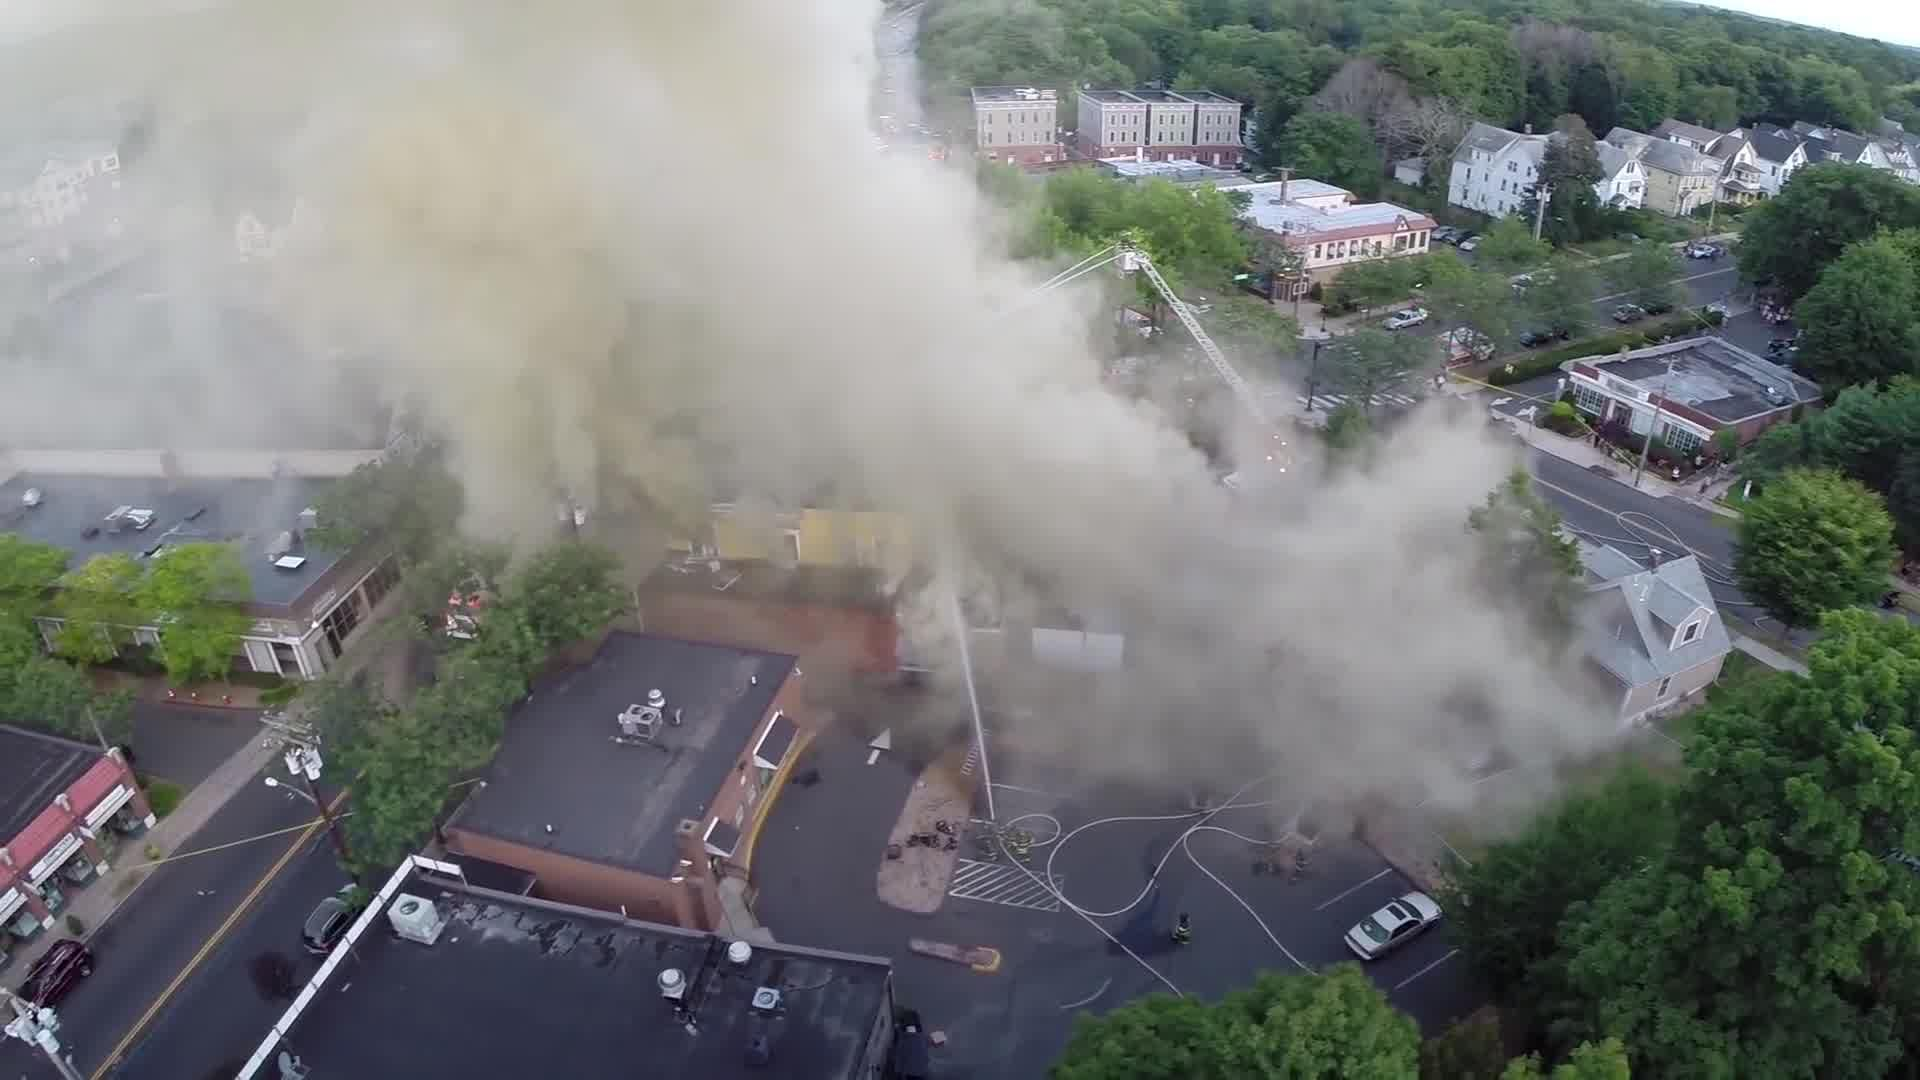smoke: (188, 23, 857, 427), (1168, 490, 1495, 792), (882, 403, 1138, 613)
